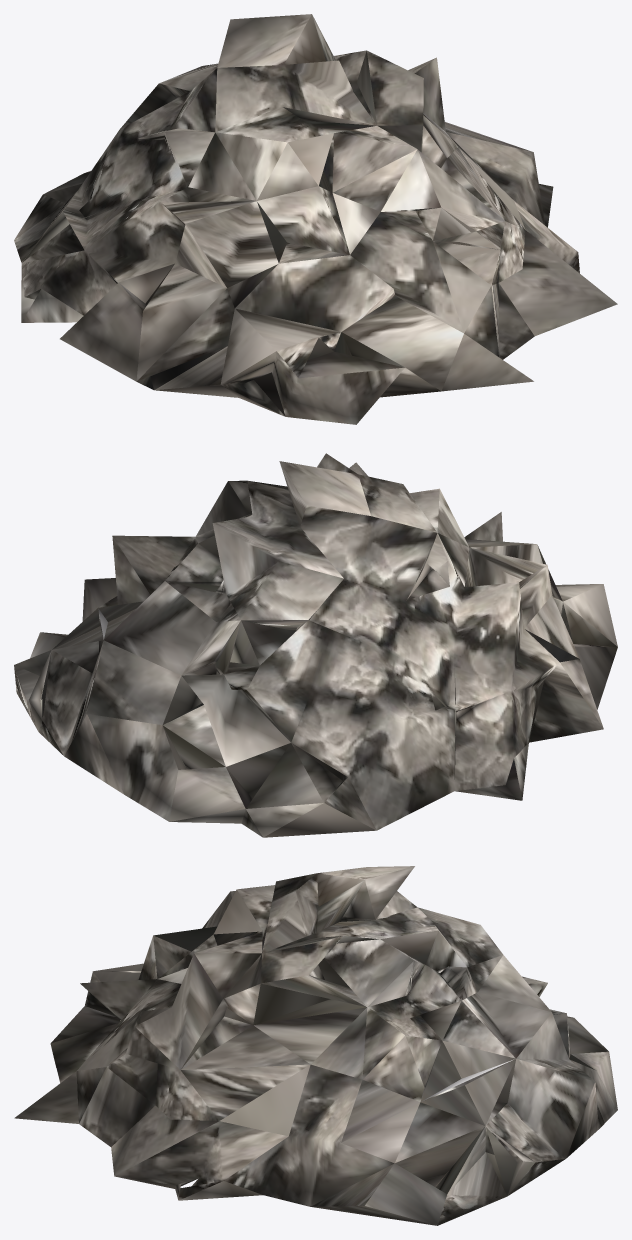
Rendered from talus_a_lod2.glb.
3 renders of one model, top to bottom at view 1: azimuth 30°, elevation 25°; view 2: azimuth 150°, elevation 25°; view 3: azimuth 270°, elevation 25°, orthographic. The views are drawn at different scales.
Parts seen in each view (by area): view 1: talus_a_lod2; view 2: talus_a_lod2; view 3: talus_a_lod2.
Part boxes in pixels (x1=…): talus_a_lod2: x1=14, y1=14, x2=617, y2=424; talus_a_lod2: x1=14, y1=453, x2=617, y2=837; talus_a_lod2: x1=14, y1=866, x2=617, y2=1225.
Size of the model in its own units: 18.97 by 8.89 by 20.02.
Materials: 1 (1 with a texture image).
